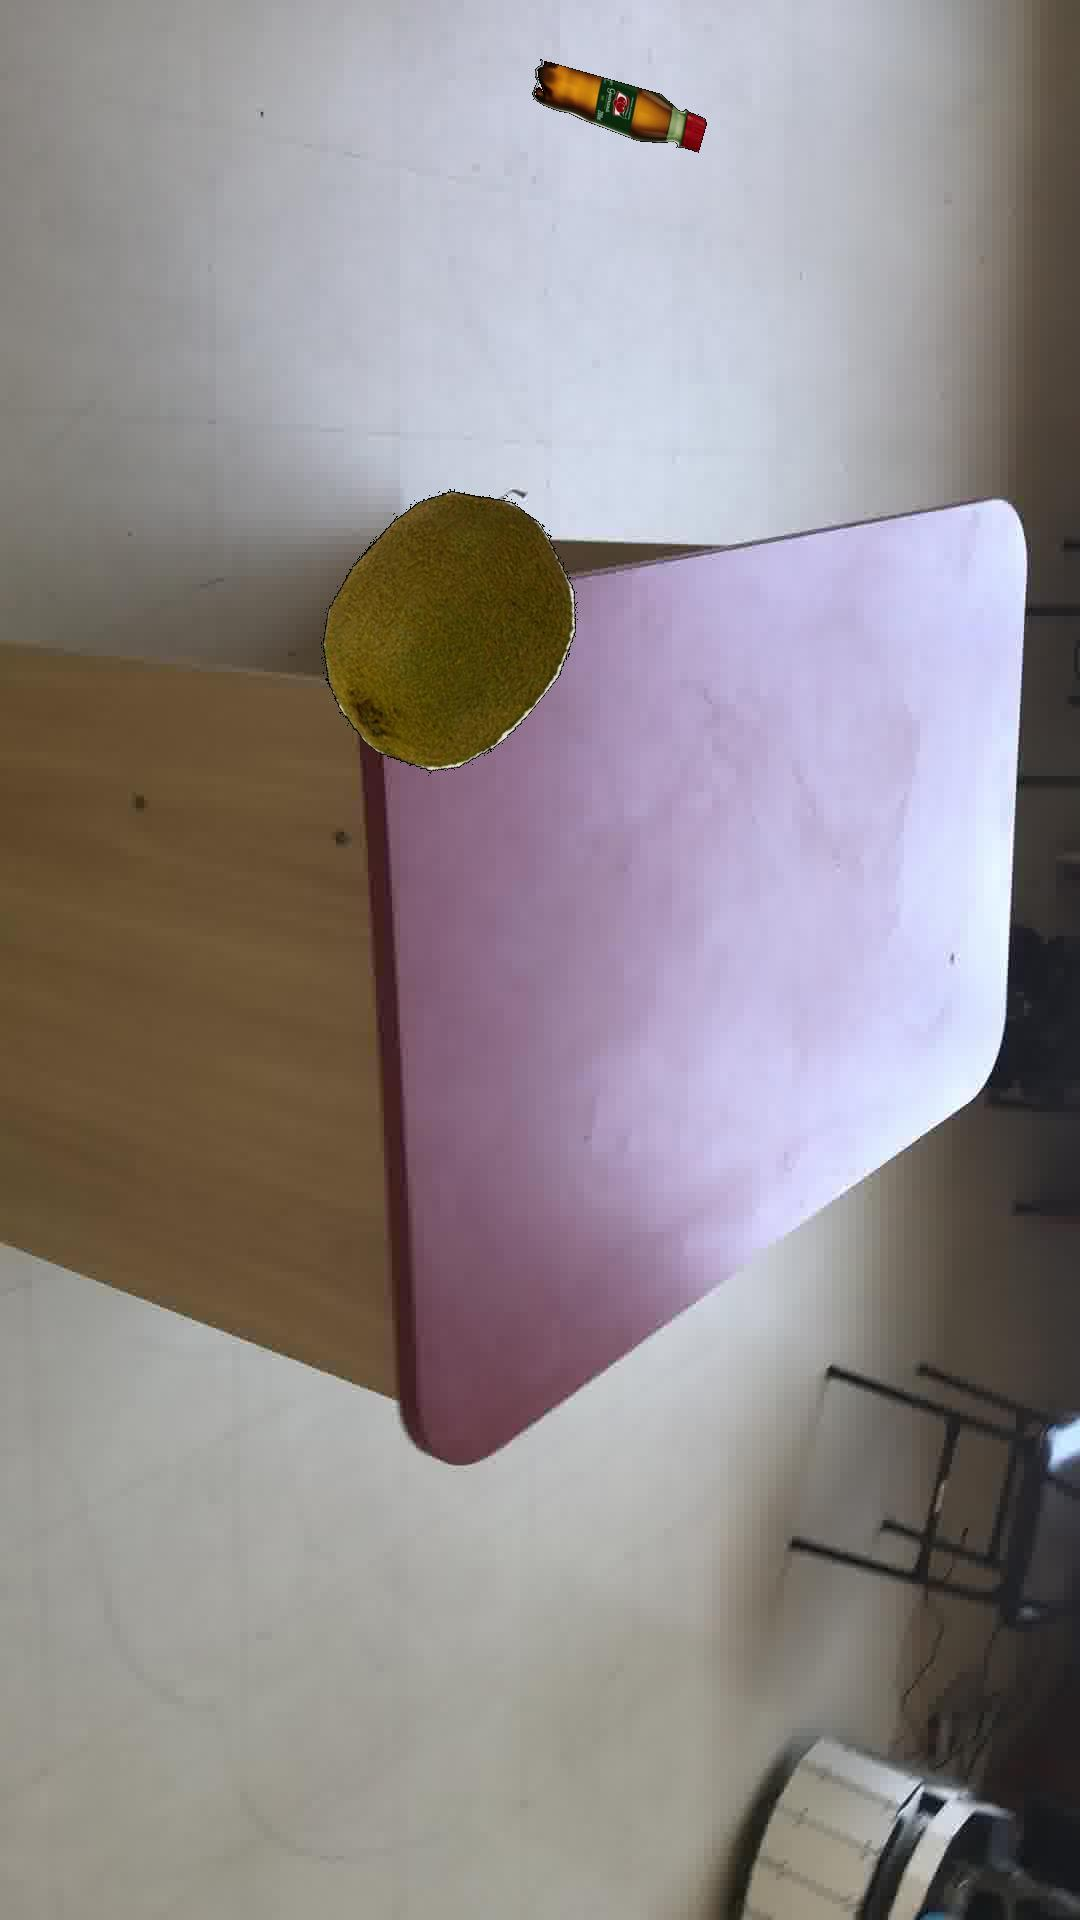guarana: (530, 58, 705, 152)
kiwi: (322, 488, 575, 770)
